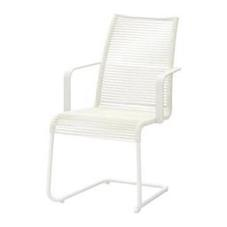chair: (27, 5, 189, 216)
